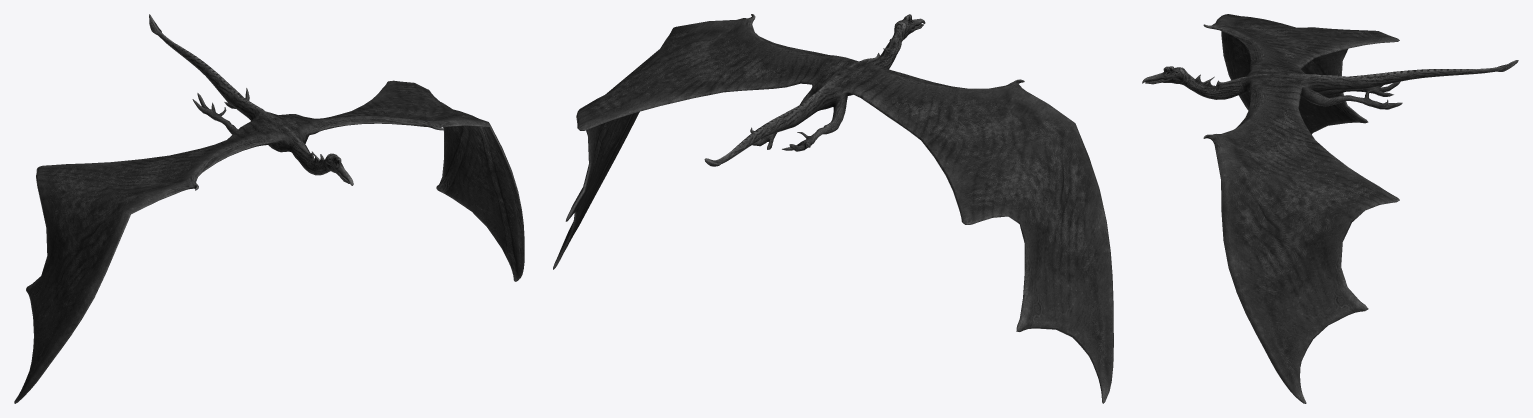
The model's file is Fellbeast_FlyAnim_36.obj.
3 renders of one model, left to right at view 1: azimuth 30°, elevation 25°; view 2: azimuth 150°, elevation 25°; view 3: azimuth 270°, elevation 25°, orthographic. The views are drawn at different scales.
Parts seen in each view (by area): view 1: Fellbeast; view 2: Fellbeast; view 3: Fellbeast.
Part boxes in pixels (bbox=[...]): Fellbeast: bbox=[14, 14, 524, 403]; Fellbeast: bbox=[553, 14, 1113, 403]; Fellbeast: bbox=[1142, 14, 1518, 403].
Size of the model in its own units: 6.3 by 2.94 by 4.38.
